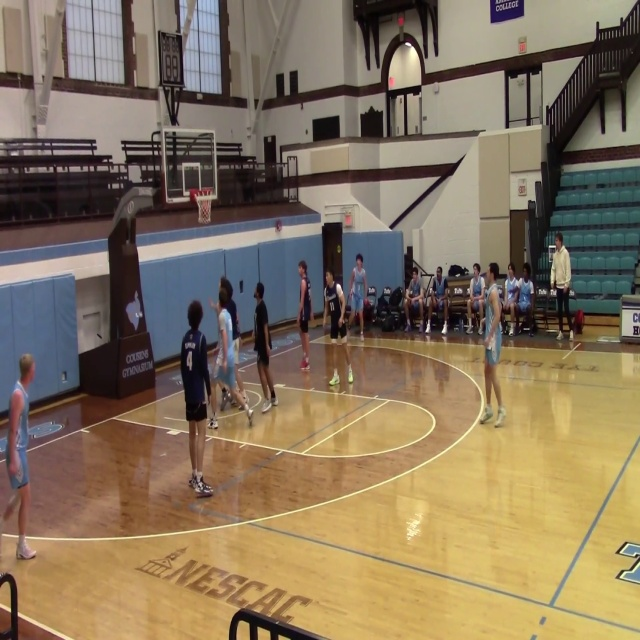Basketball: (397, 16, 404, 26)
